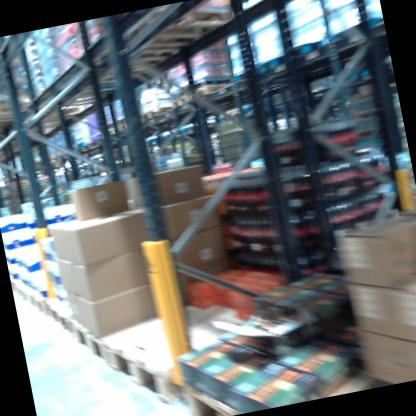pallet: (96, 282, 290, 414), (114, 0, 239, 59), (69, 305, 145, 369), (179, 371, 241, 416), (186, 76, 244, 105), (43, 295, 74, 340), (0, 90, 37, 122)
